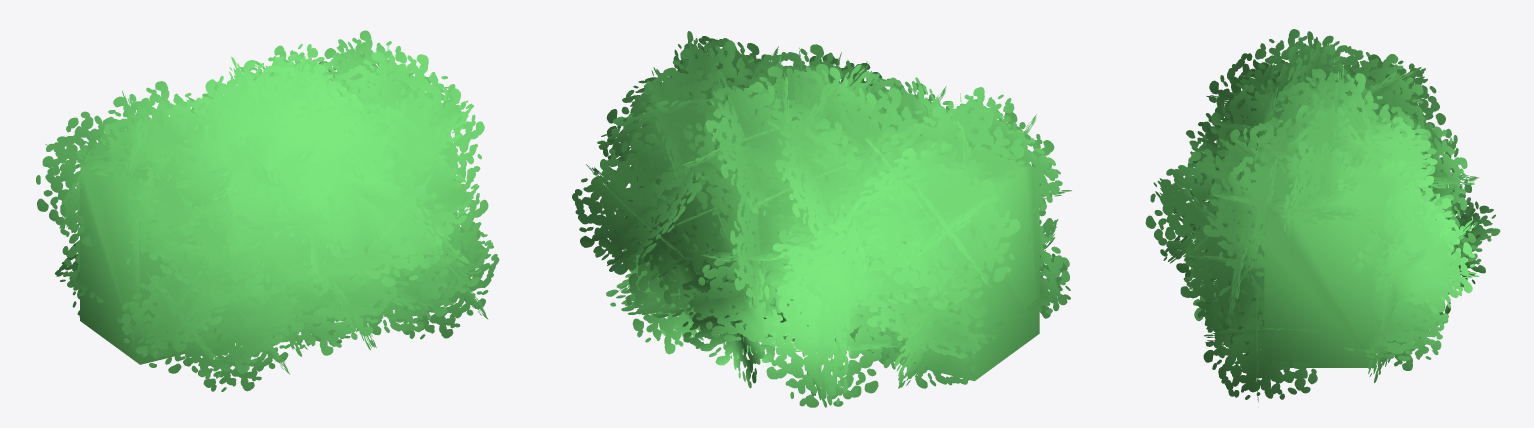
Rendered from Hedge.fbx.
3 renders of one model, left to right at view 1: azimuth 30°, elevation 25°; view 2: azimuth 150°, elevation 25°; view 3: azimuth 270°, elevation 25°, orthographic. The views are drawn at different scales.
Visible parts, largest first — view 1: Cube.001; view 2: Cube.001; view 3: Cube.001.
Part boxes in pixels (x1,y1,x2,y2): Cube.001: (36, 30, 499, 391); Cube.001: (572, 31, 1071, 407); Cube.001: (1145, 29, 1500, 407).
Size of the model in its own units: 8.08 by 5.78 by 7.06.
